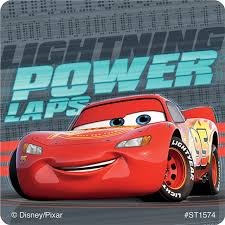mcqueen: (7, 93, 222, 204)
